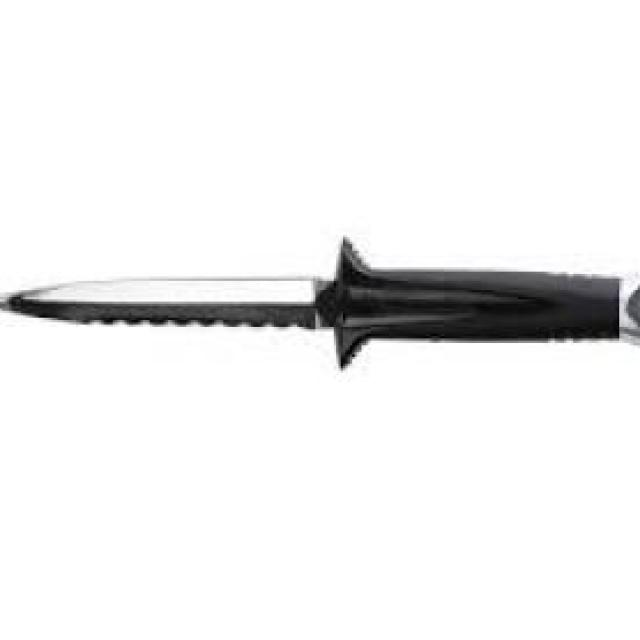knife: (0, 249, 640, 368)
